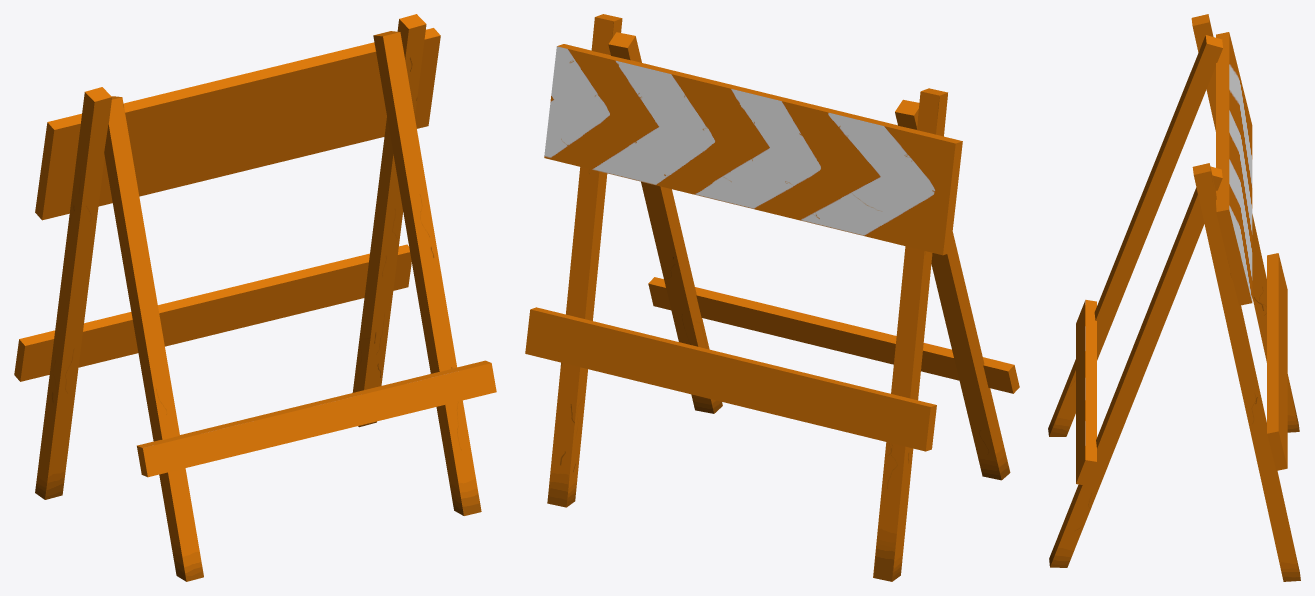
Rendered from cavalete.fbx.
3 renders of one model, left to right at view 1: azimuth 30°, elevation 25°; view 2: azimuth 150°, elevation 25°; view 3: azimuth 270°, elevation 25°, orthographic. The views are drawn at different scales.
Visible parts, largest first — view 1: Cube.001; view 2: Cube.001; view 3: Cube.001.
Boxes of the visible parts, x1,y1,x2,y2 form: Cube.001: [14, 14, 496, 581]; Cube.001: [525, 14, 1019, 581]; Cube.001: [1048, 14, 1300, 581].
Bounding box in the file's own units: 175 × 190 × 105.
